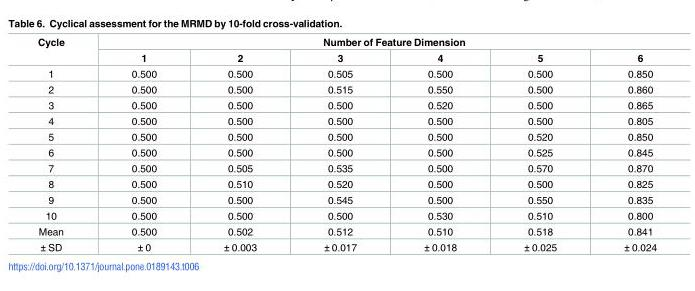table: (36, 37, 656, 252)
table column: (189, 37, 289, 252), (289, 37, 389, 252), (389, 37, 489, 252), (489, 37, 589, 252), (97, 37, 189, 252), (589, 37, 656, 252), (36, 37, 97, 252)
table column header: (36, 37, 656, 65)
table row: (36, 65, 656, 81), (36, 81, 656, 97), (36, 97, 656, 113), (36, 113, 656, 129), (36, 144, 656, 160), (36, 160, 656, 176), (36, 176, 656, 192), (36, 192, 656, 208), (36, 50, 656, 65), (36, 129, 656, 144), (36, 208, 656, 223), (36, 223, 656, 238), (36, 238, 656, 252), (36, 37, 656, 50)
table spanning cell: (97, 37, 656, 50), (36, 37, 97, 65)
